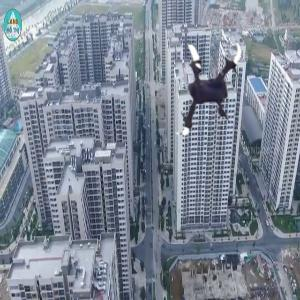drone: (147, 27, 260, 140)
